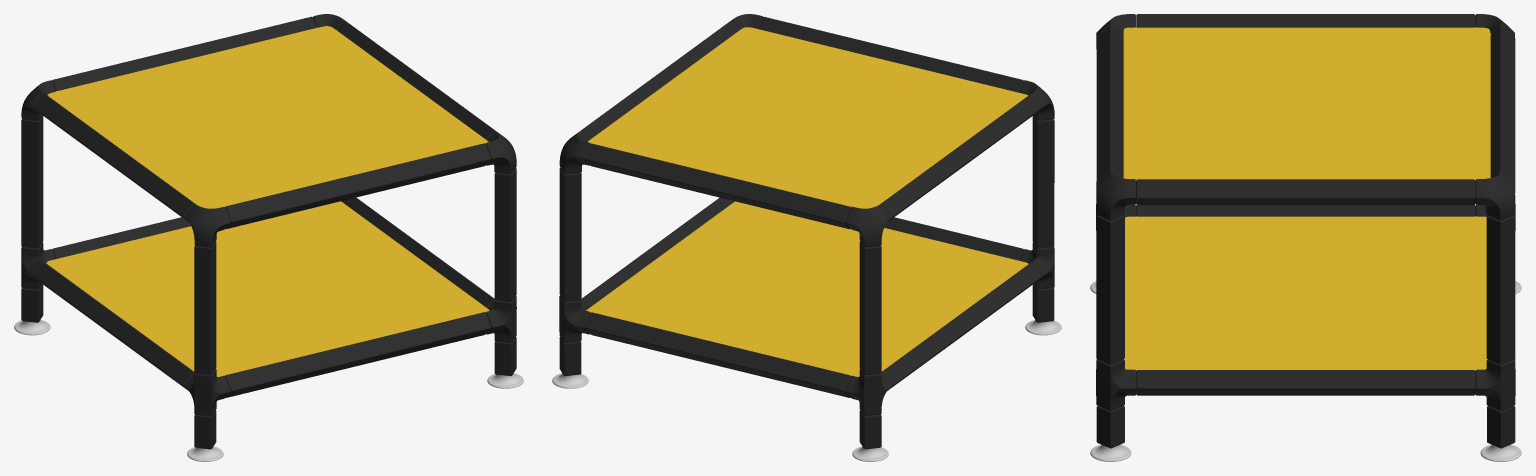
The picture shows the model from 3 angles, left to right: view 1: azimuth 30°, elevation 25°; view 2: azimuth 150°, elevation 25°; view 3: azimuth 270°, elevation 25°; orthographic projection. The views are drawn at different scales.
Visible parts, largest first — view 1: 329x329x154; view 2: 329x329x154; view 3: 329x329x154.
Boxes of the visible parts, x1=… form: 329x329x154: x1=14, y1=14, x2=523, y2=461; 329x329x154: x1=552, y1=14, x2=1061, y2=461; 329x329x154: x1=1090, y1=14, x2=1521, y2=461.
Size of the model in its own units: 0.4189 by 0.2933 by 0.4182.
